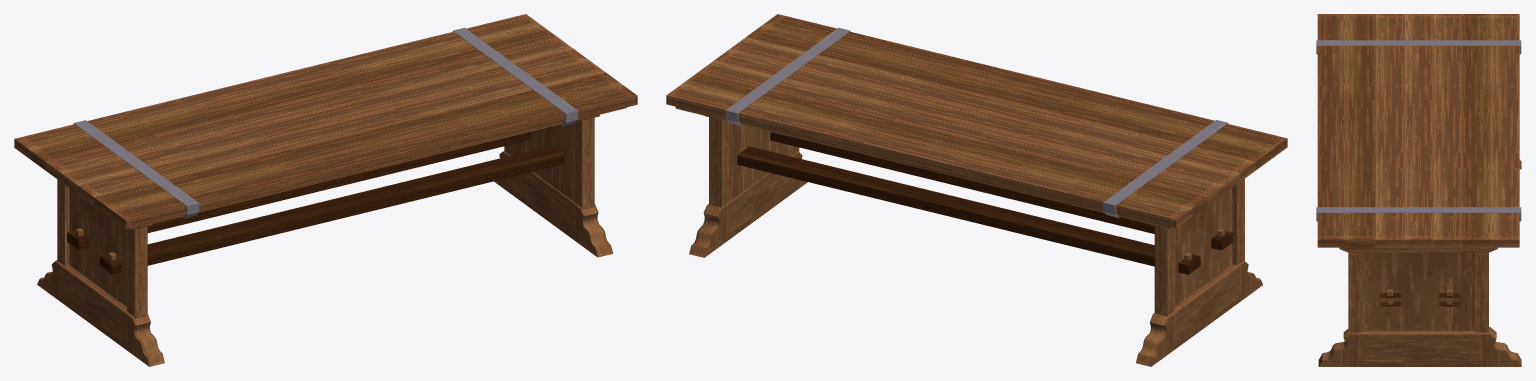
Rendered from Table_Large.glb.
3 views of the same model, side by side, from view 1: azimuth 30°, elevation 25°; view 2: azimuth 150°, elevation 25°; view 3: azimuth 270°, elevation 25° (orthographic). The views are drawn at different scales.
Parts seen in each view (by area): view 1: Table_Large; view 2: Table_Large; view 3: Table_Large.
Boxes of the visible parts, x1=… form: Table_Large: x1=14, y1=14, x2=637, y2=366; Table_Large: x1=666, y1=14, x2=1287, y2=366; Table_Large: x1=1316, y1=14, x2=1521, y2=366.
Size of the model in its own units: 2.85 by 0.8134 by 1.1.
Materials: 2 (2 with a texture image).
